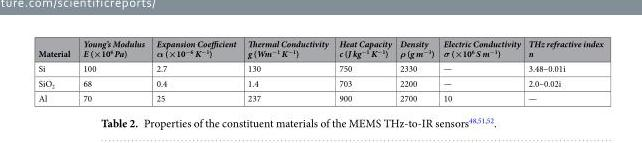table: (37, 37, 602, 103)
table column: (149, 37, 241, 103), (241, 37, 333, 103), (438, 37, 523, 103), (523, 37, 602, 103), (76, 37, 149, 103), (333, 37, 395, 103), (395, 37, 438, 103), (37, 37, 76, 103)
table column header: (37, 37, 602, 60)
table row: (37, 37, 602, 60), (37, 60, 602, 75), (37, 75, 602, 90), (37, 90, 602, 103)
